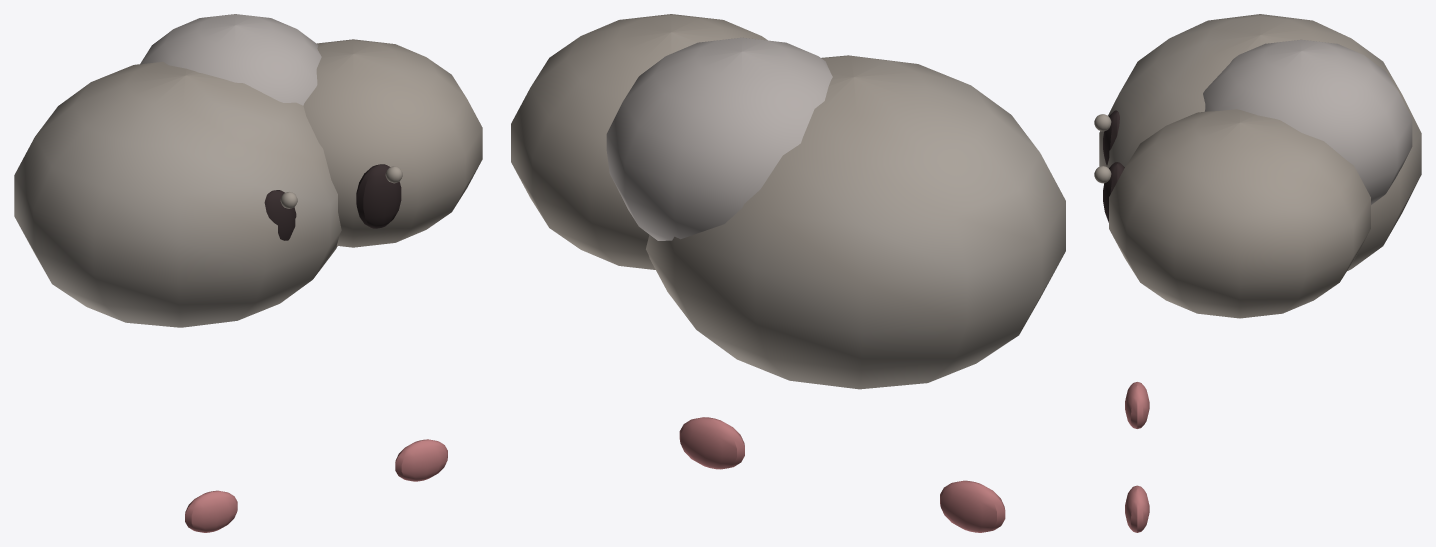
3 renders of one model, left to right at view 1: azimuth 30°, elevation 25°; view 2: azimuth 150°, elevation 25°; view 3: azimuth 270°, elevation 25°, orthographic. The views are drawn at different scales.
Parts seen in each view (by area): view 1: pet_pc38c4245; view 2: pet_pc38c4245; view 3: pet_pc38c4245.
Part boxes in pixels (x1,y1,x2,y2): pet_pc38c4245: (14, 14, 482, 532); pet_pc38c4245: (511, 14, 1065, 532); pet_pc38c4245: (1094, 14, 1421, 532).
Bounding box in the file's own units: 0.4814 × 0.4594 × 0.3199.
